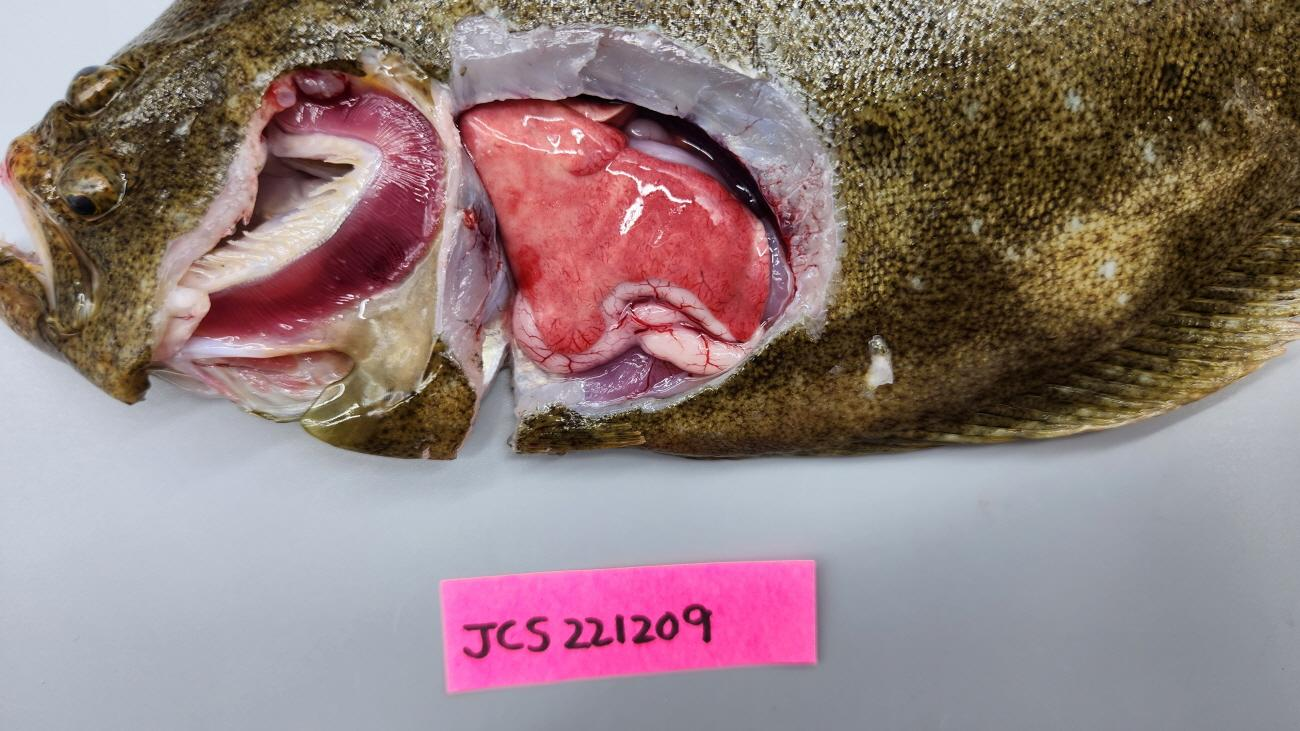VILIC: (521, 122, 769, 354)
